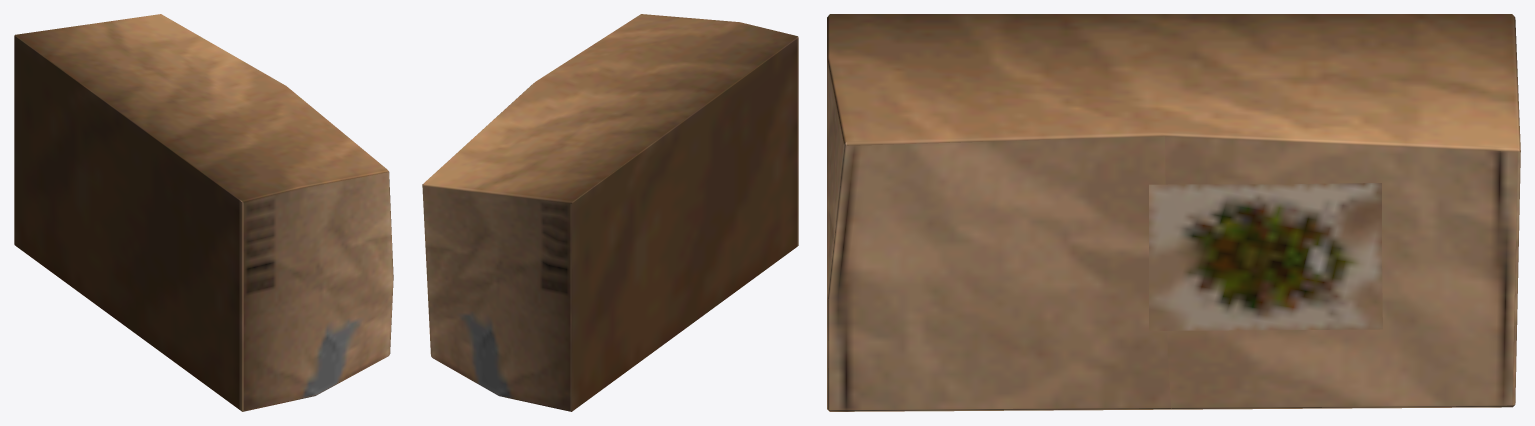
Rendered from SM_PRP_Package_A_03.fbx.
3 views of the same model, side by side, from view 1: azimuth 30°, elevation 25°; view 2: azimuth 150°, elevation 25°; view 3: azimuth 270°, elevation 25° (orthographic). The views are drawn at different scales.
Visible parts, largest first — view 1: PRP_Package_A_03; view 2: PRP_Package_A_03; view 3: PRP_Package_A_03.
Part boxes in pixels (bbox=[...]): PRP_Package_A_03: bbox=[14, 14, 393, 411]; PRP_Package_A_03: bbox=[422, 14, 798, 411]; PRP_Package_A_03: bbox=[827, 14, 1520, 411].
Size of the model in its own units: 9.78 by 12.78 by 24.9.
